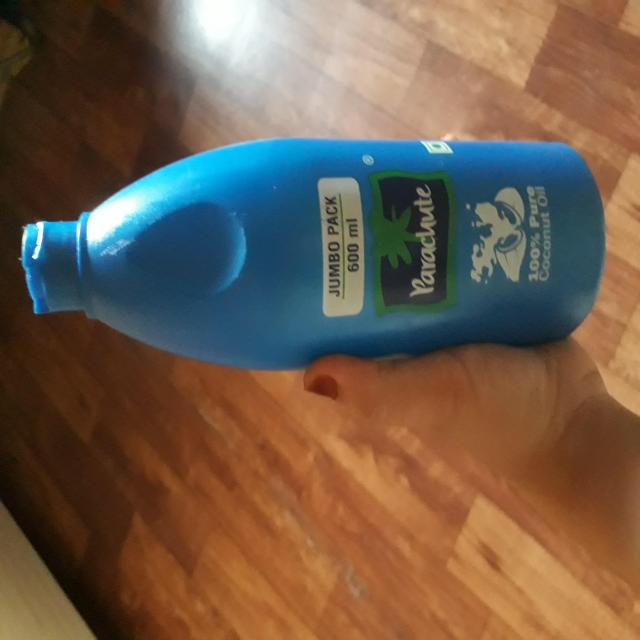parachute_oil: (16, 135, 612, 366)
